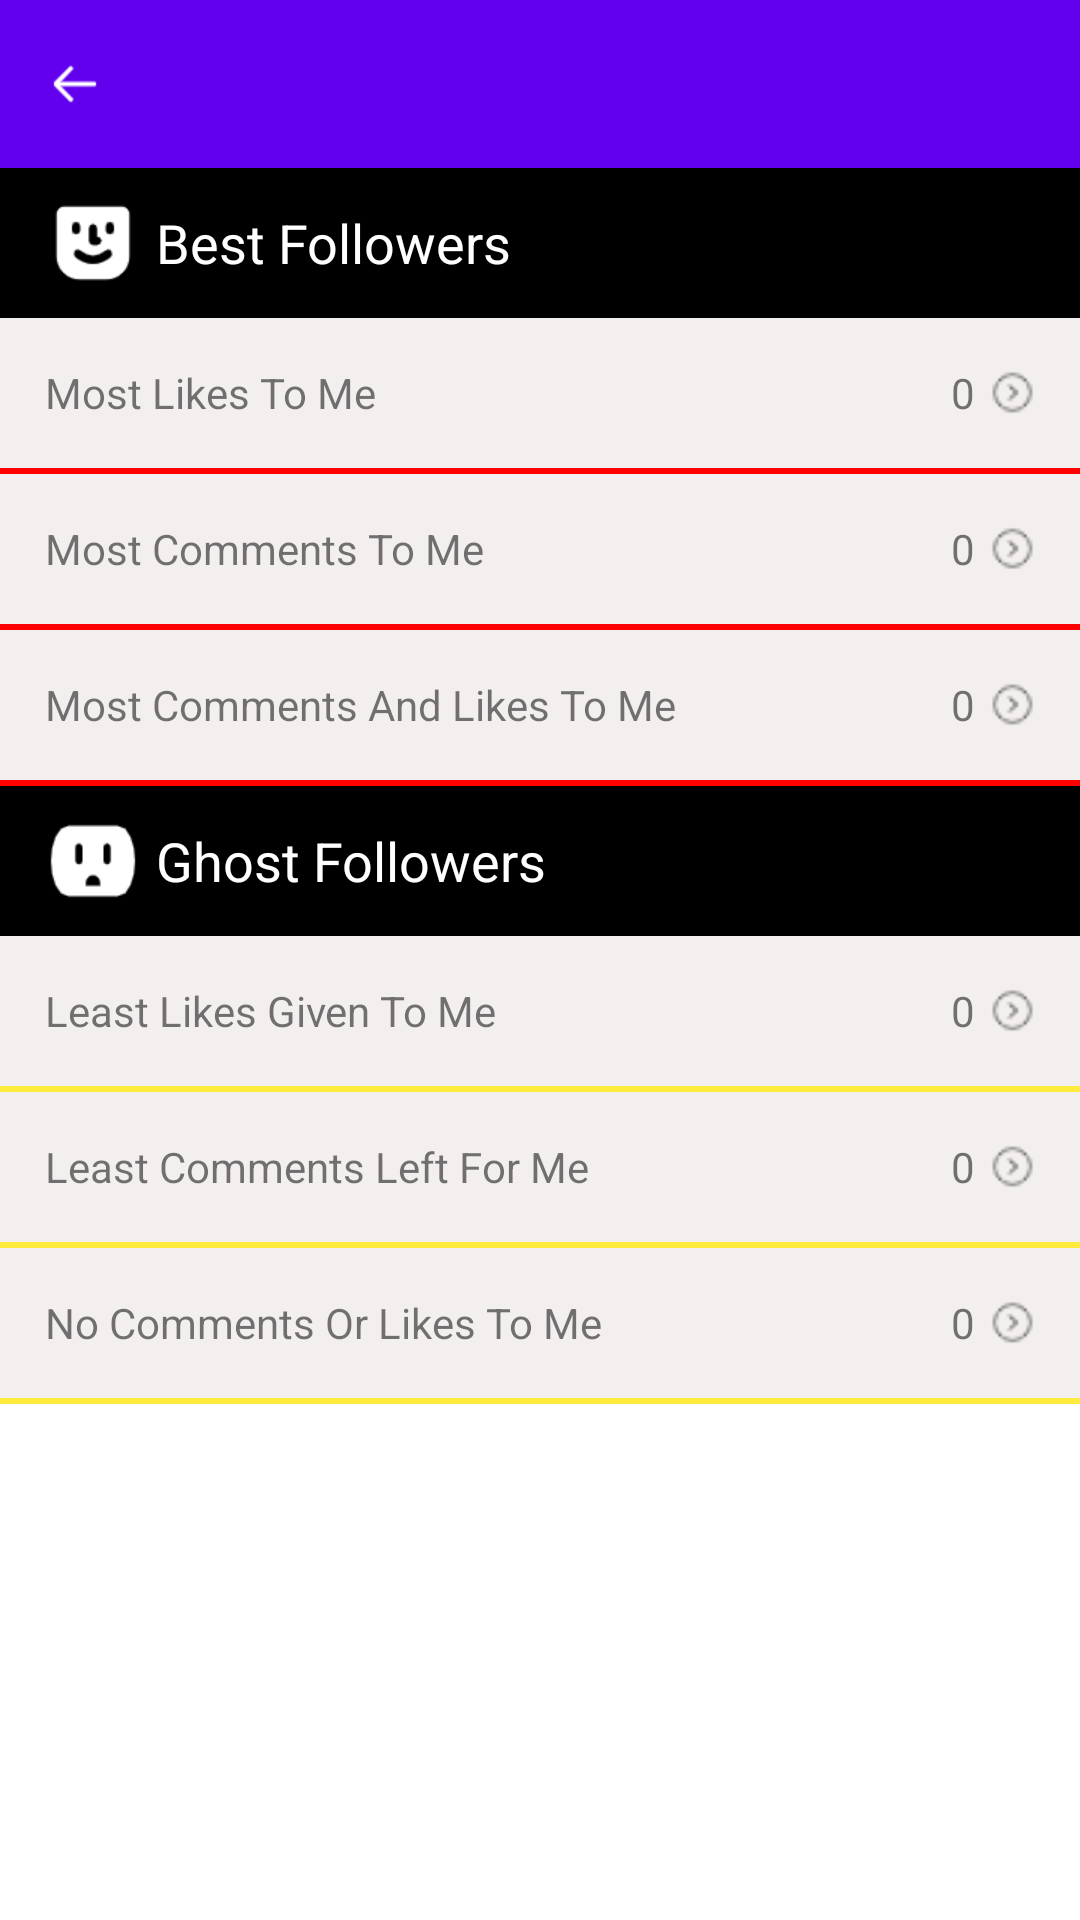

Named icons in this screenshot (1080 x 1920) and their bounding boxes, box=[x1, y1, x2, y2]:
arrow right: box=[992, 372, 1033, 413], box=[992, 528, 1033, 569], box=[992, 684, 1033, 725], box=[992, 990, 1033, 1031], box=[992, 1146, 1033, 1187], box=[992, 1302, 1033, 1343]
back: box=[53, 65, 97, 103]
frowny face: box=[50, 825, 136, 897]
smile face: box=[55, 205, 131, 281]
